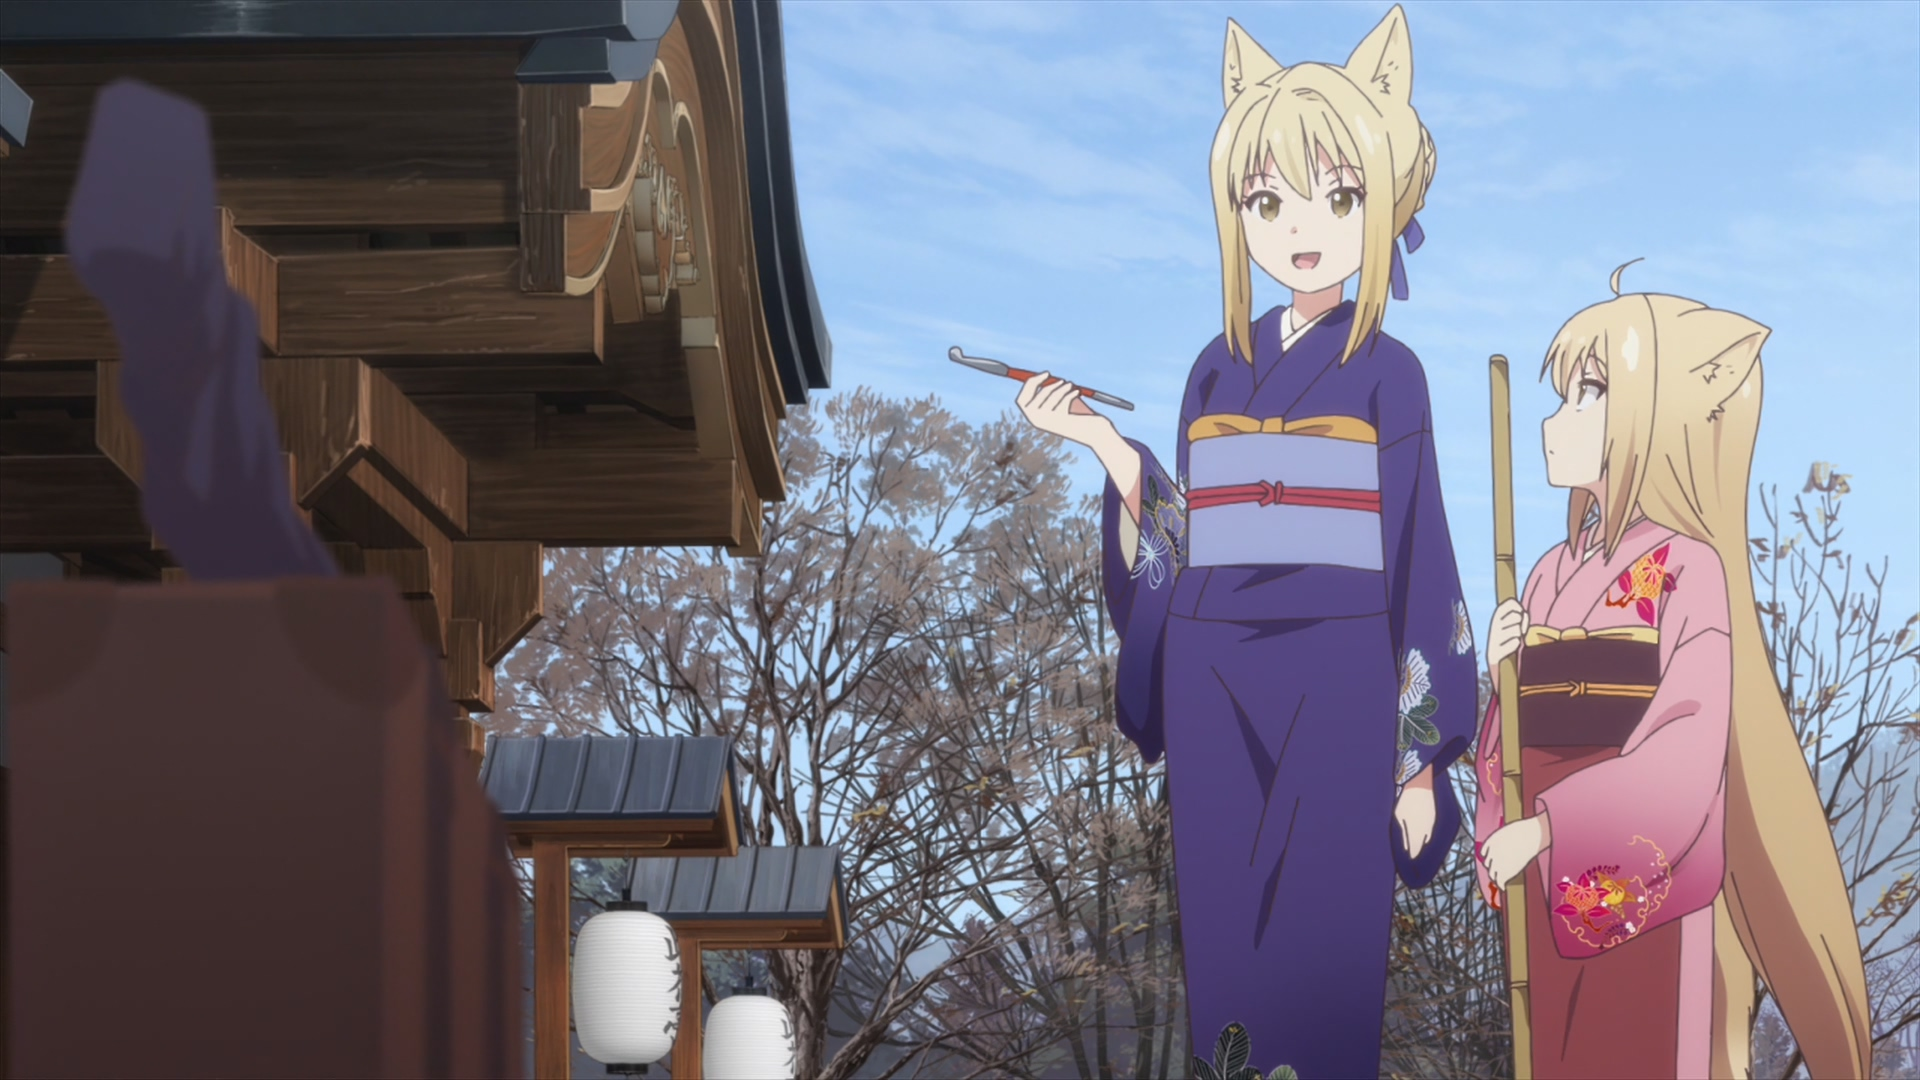柚: (1476, 258, 1874, 1080)
桐: (1015, 5, 1476, 1080)
